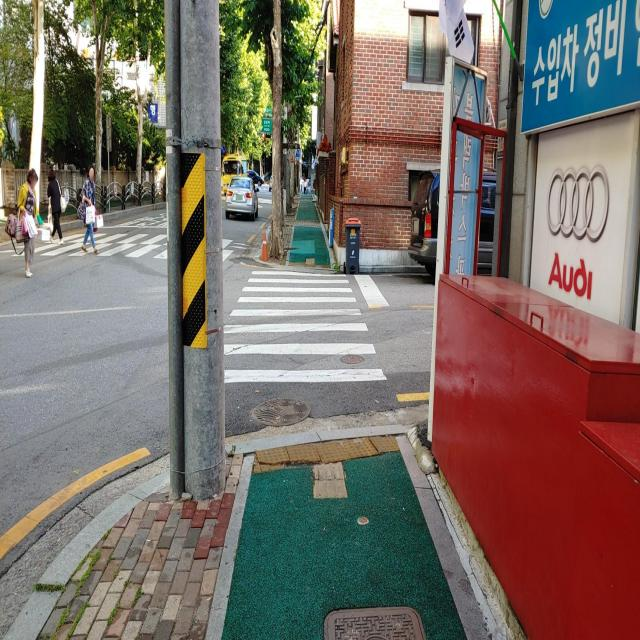횡단보도: (223, 268, 388, 385), (0, 228, 254, 266)
